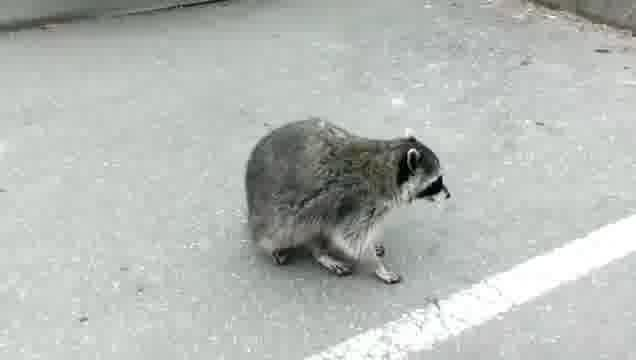raccoon: (242, 113, 452, 284)
